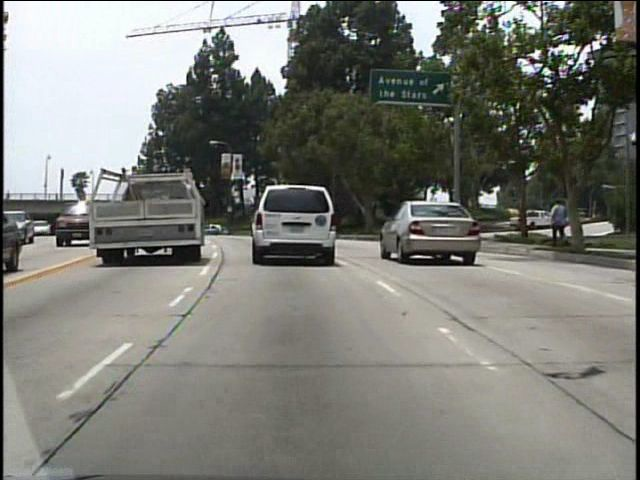person: (547, 191, 570, 249)
